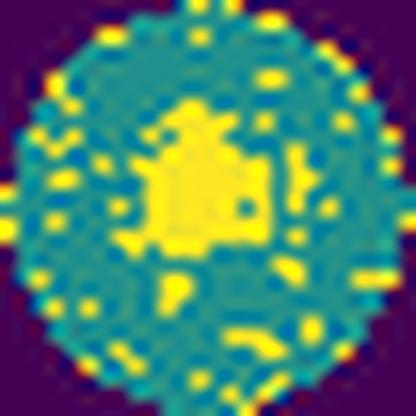Center: (112, 95, 275, 262)
